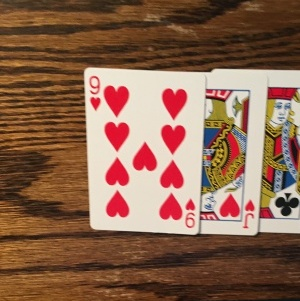card: (85, 66, 203, 235), (198, 71, 264, 237)
